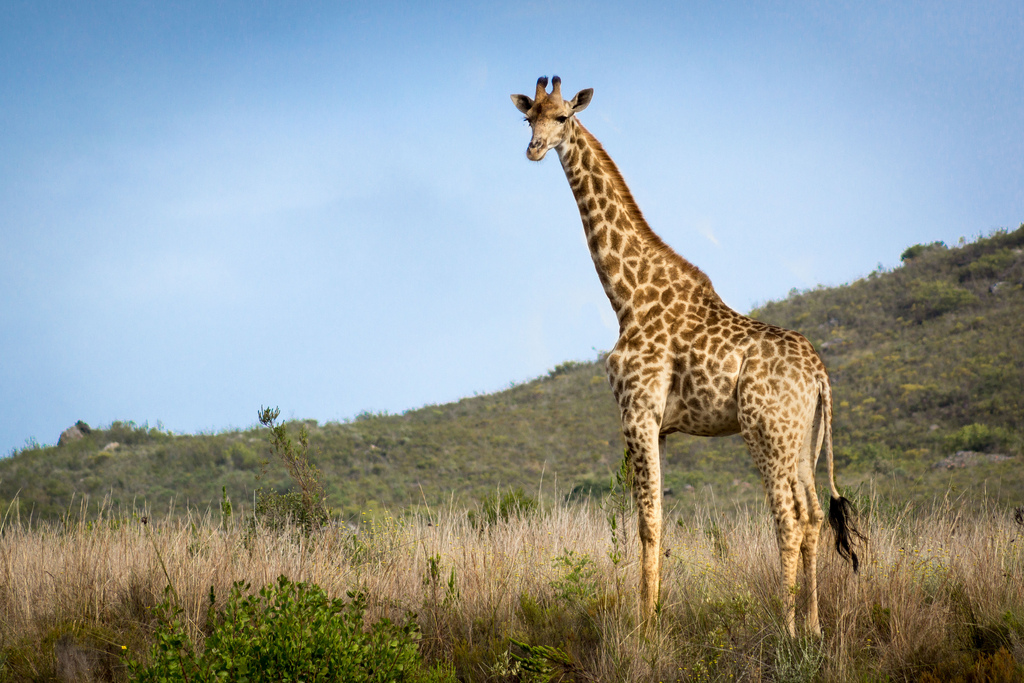giraffe: (511, 62, 888, 629)
